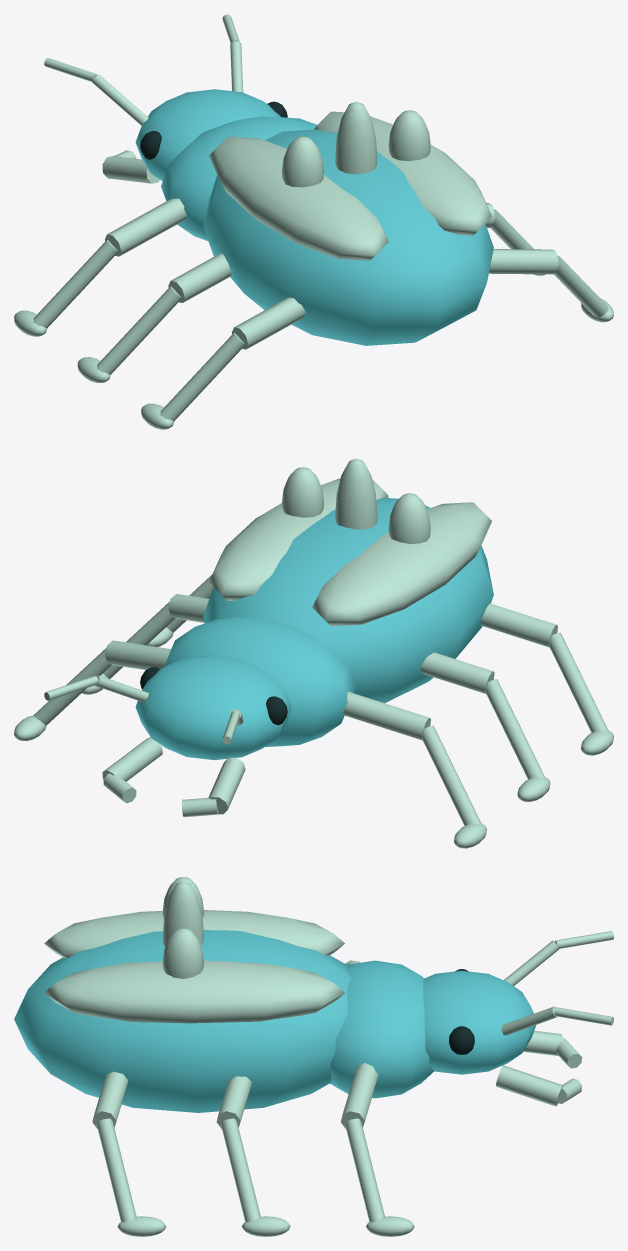
Rendered from crystal-beetle.glb.
3 renders of one model, top to bottom at view 1: azimuth 30°, elevation 25°; view 2: azimuth 150°, elevation 25°; view 3: azimuth 270°, elevation 25°, orthographic. The views are drawn at different scales.
Parts seen in each view (by area): view 1: body, back-plates, head, leg-0, leg-4, leg-2, antennae, leg-5, leg-3, eyes; view 2: body, back-plates, head, antennae, leg-0, leg-4, leg-2, leg-1, leg-3, leg-5, eyes; view 3: body, back-plates, head, antennae, leg-1, leg-5, leg-3, eyes.
Part boxes in pixels (left/top/right/bottom): body: left=161, top=116, right=493, bottom=345; back-plates: left=209, top=101, right=491, bottom=260; head: left=135, top=89, right=280, bottom=180; leg-0: left=14, top=198, right=186, bottom=336; leg-4: left=141, top=297, right=305, bottom=429; leg-2: left=77, top=253, right=231, bottom=382; antennae: left=44, top=14, right=243, bottom=183; leg-5: left=489, top=249, right=613, bottom=322; leg-3: left=485, top=203, right=545, bottom=275; eyes: left=140, top=101, right=287, bottom=159; body: left=165, top=497, right=493, bottom=746; back-plates: left=209, top=458, right=491, bottom=626; head: left=135, top=655, right=291, bottom=760; antennae: left=44, top=674, right=245, bottom=817; leg-0: left=343, top=691, right=486, bottom=848; leg-4: left=480, top=603, right=613, bottom=755; leg-2: left=420, top=652, right=550, bottom=801; leg-1: left=14, top=640, right=171, bottom=741; leg-3: left=82, top=594, right=208, bottom=694; leg-5: left=147, top=574, right=213, bottom=646; eyes: left=140, top=667, right=287, bottom=725; body: left=14, top=930, right=434, bottom=1112; back-plates: left=44, top=877, right=344, bottom=1023; head: left=423, top=970, right=535, bottom=1074; antennae: left=496, top=931, right=613, bottom=1106; leg-1: left=341, top=1063, right=414, bottom=1236; leg-5: left=92, top=1071, right=166, bottom=1236; leg-3: left=216, top=1076, right=290, bottom=1236; eyes: left=449, top=969, right=474, bottom=1054.
Size of the model in its own units: 1.39 by 0.731 by 1.59.
